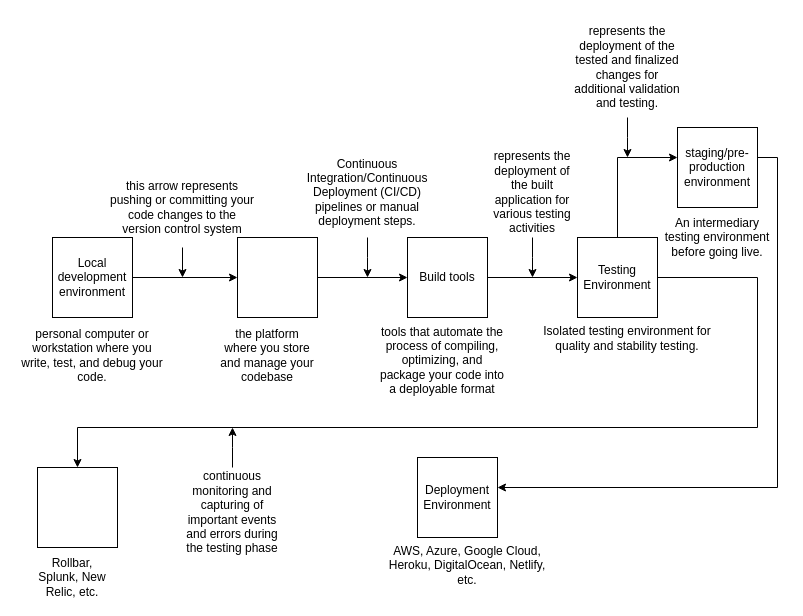
The diagram is 803 pixels wide and 616 high, and some of its shapes have lost their labels. Here are the shapes that lost their labels. From the top down, the centre of each, then its label:
At point 277,277: "Version Control system".
At point 77,507: "Monitoring or Logging component".
